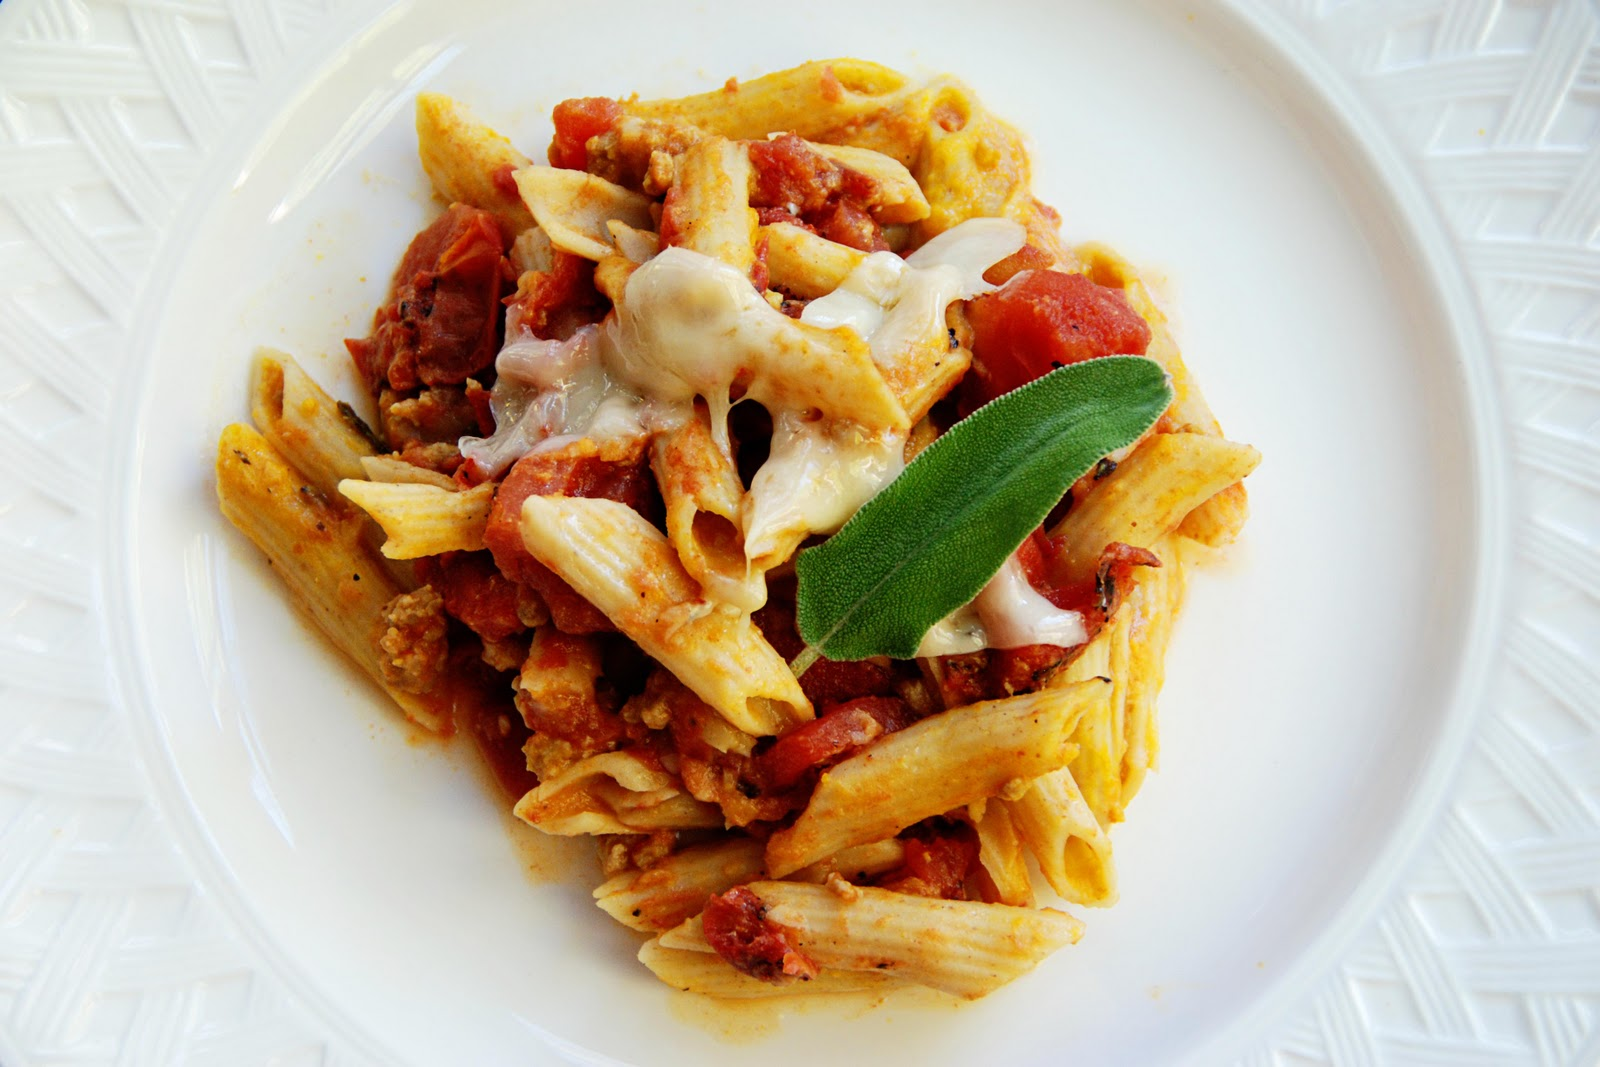plain spaghetti: (492, 181, 1148, 965)
